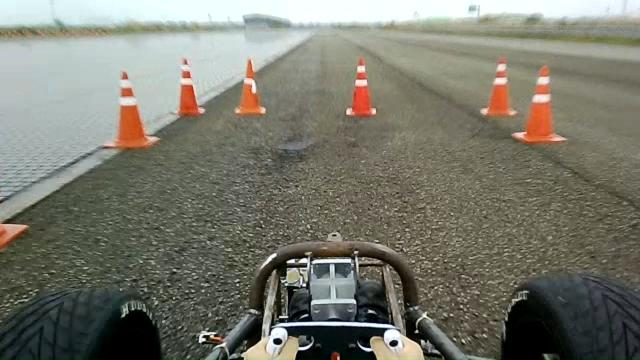red cone: (102, 71, 160, 150), (512, 64, 568, 144), (479, 56, 518, 118), (171, 57, 206, 117), (345, 57, 377, 117), (234, 57, 266, 116)
